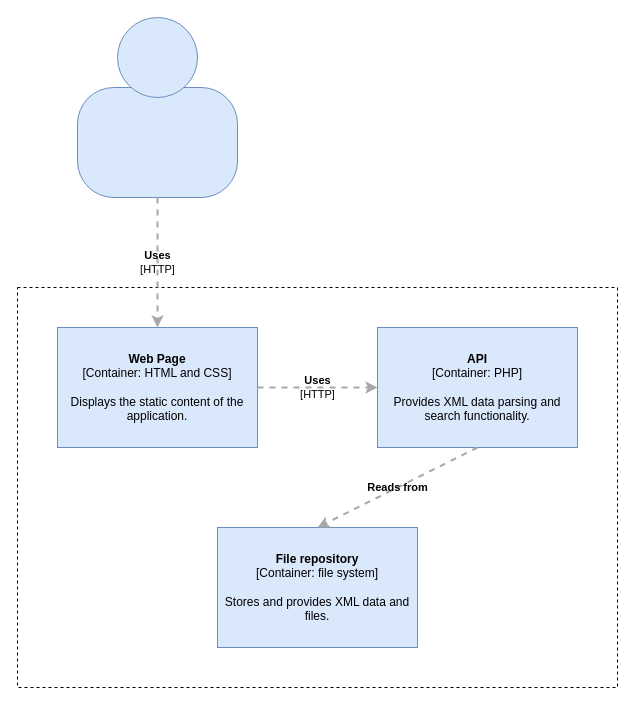
This 635x705 diagram has some shape labels left out. Here are the shapes that lost their labels. From the top down, the box of each, then its label:
(76, 86, 238, 198): User [Person] A user of the AdNote management system.
(16, 286, 618, 688): AdNote [Software System]
